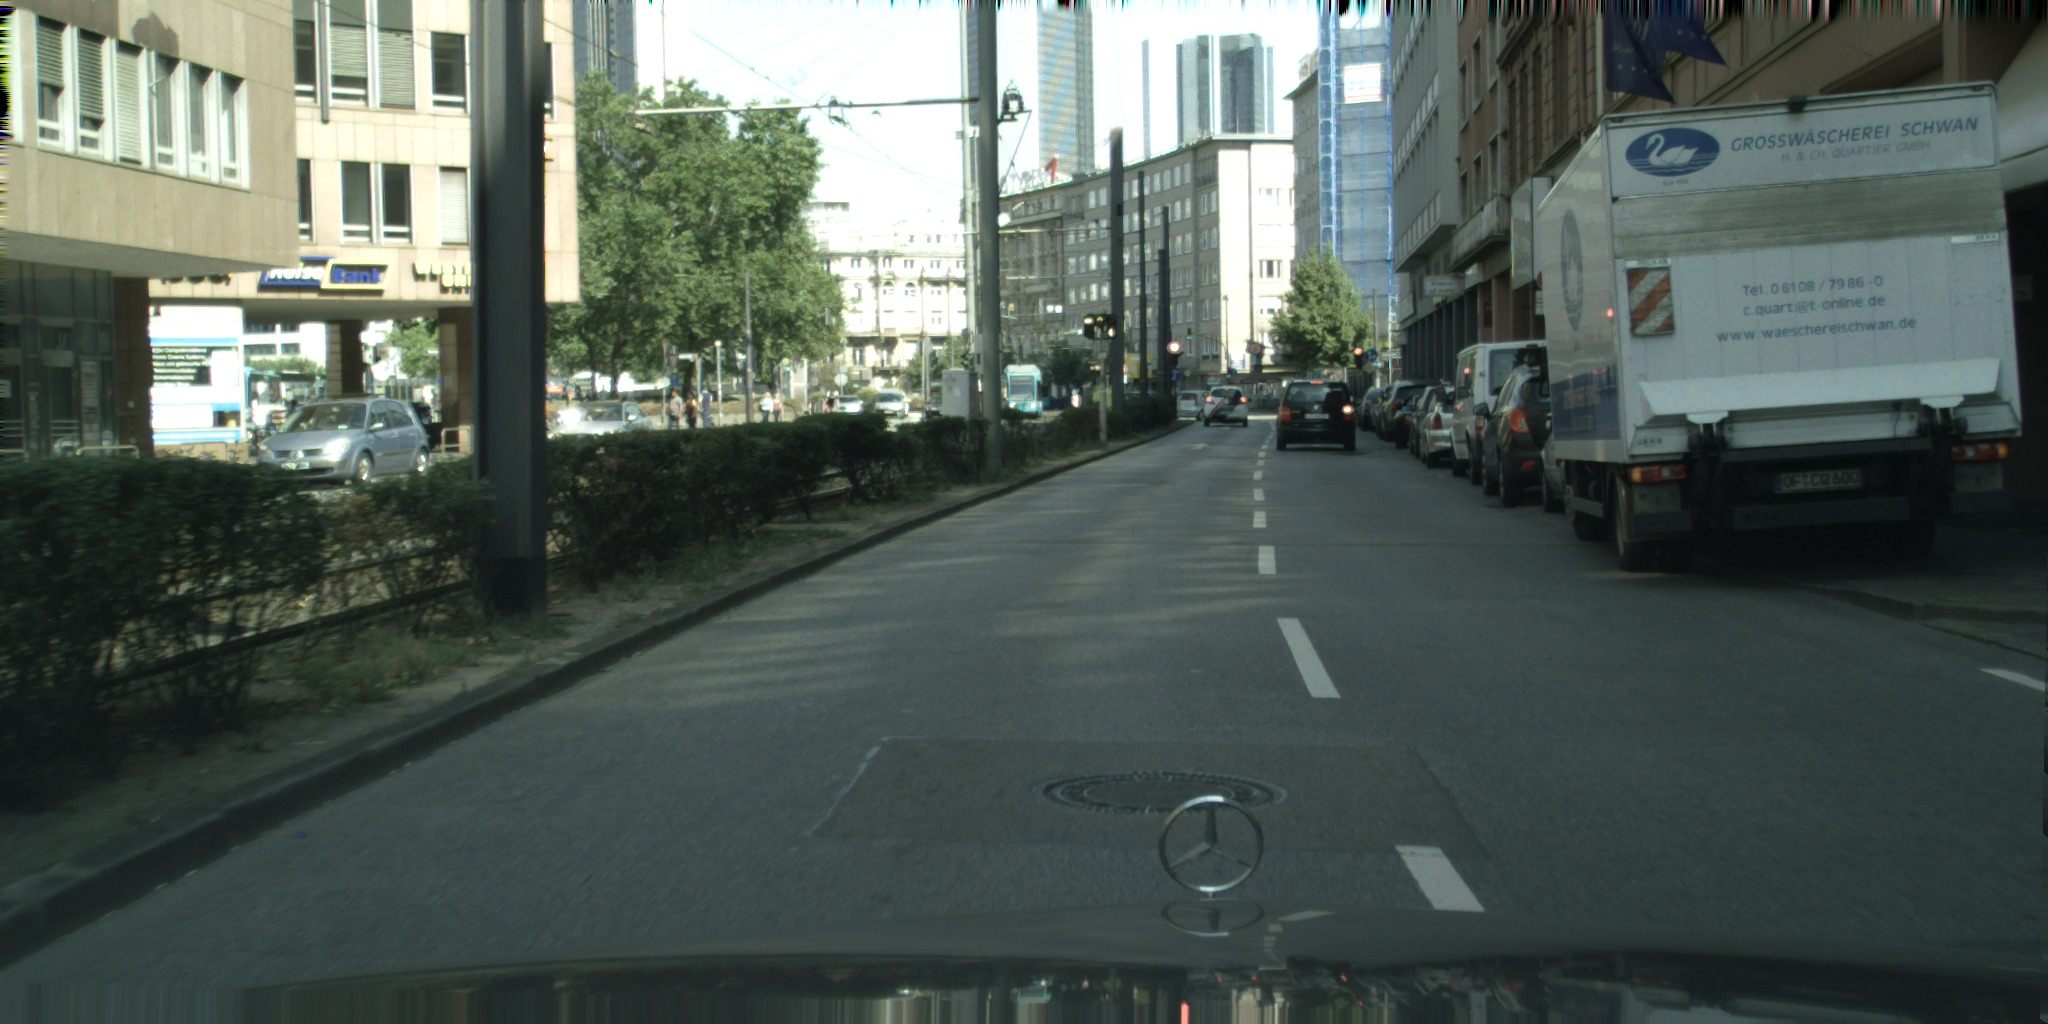car: (1445, 340, 1565, 486), (255, 393, 432, 491), (1473, 359, 1574, 509), (539, 398, 654, 458), (1276, 377, 1357, 452), (1536, 409, 1575, 515), (1203, 384, 1250, 428), (1172, 391, 1213, 422), (872, 387, 910, 421), (1122, 391, 1164, 411), (835, 394, 867, 419), (923, 394, 953, 421)
train: (997, 363, 1044, 421)
truck: (1535, 80, 2026, 577)
